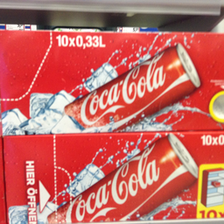soda: (38, 134, 201, 224), (64, 45, 201, 133)
